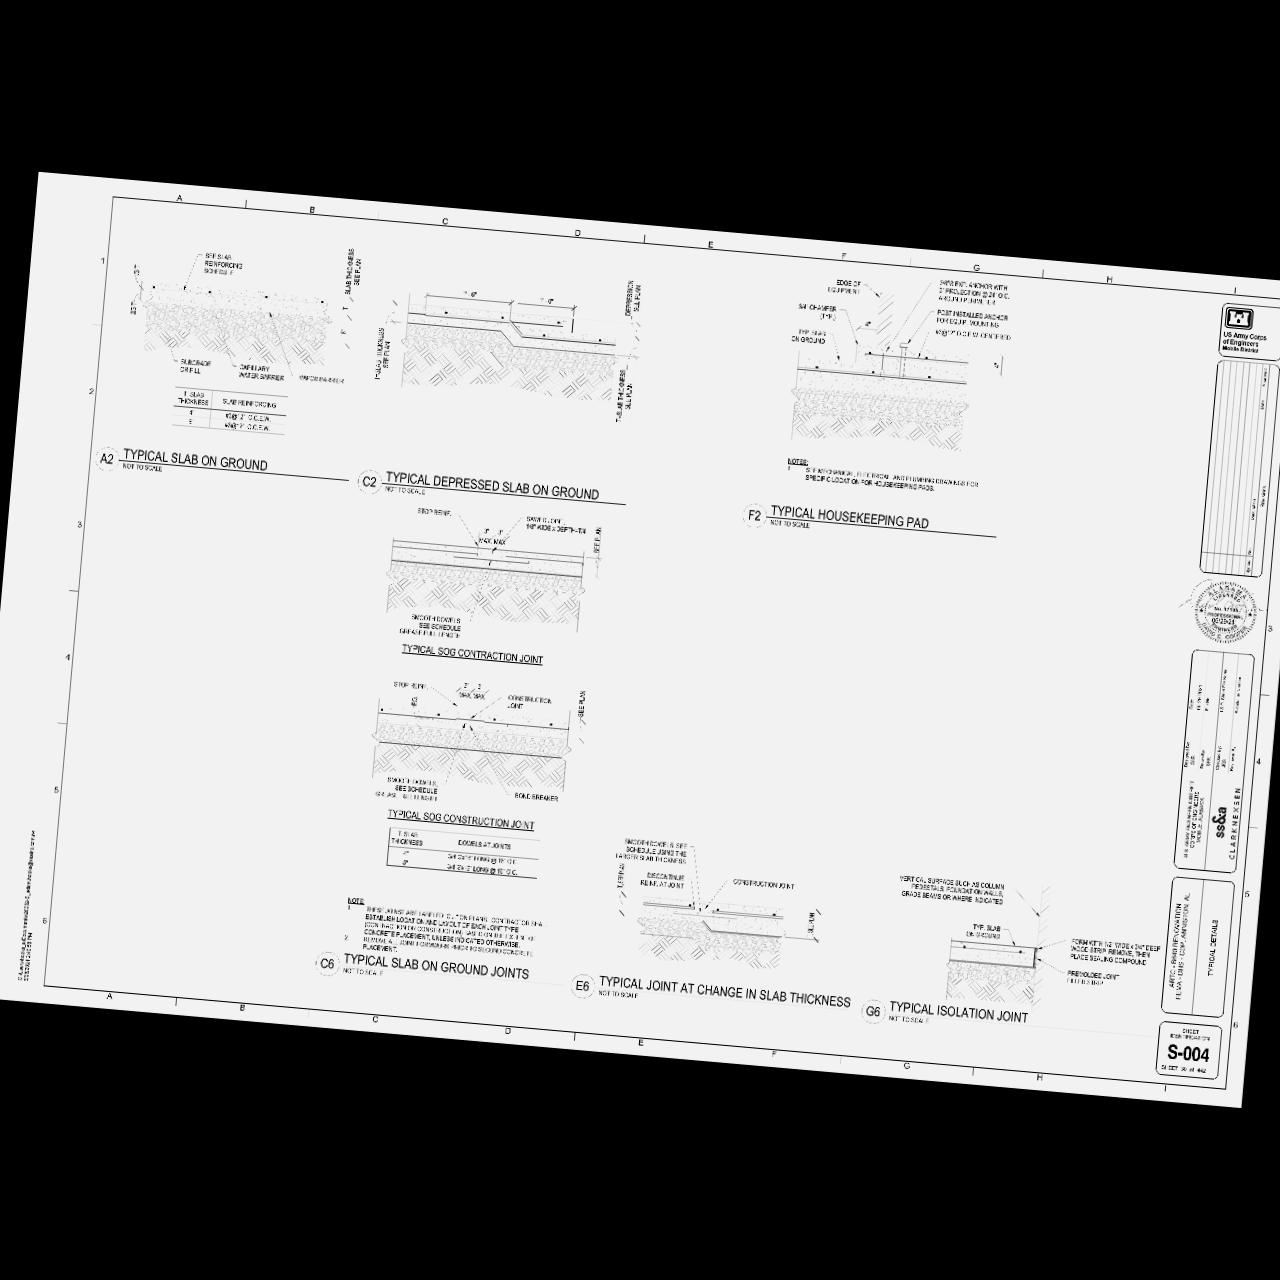title: (858, 994, 1160, 1055), (354, 462, 633, 519), (566, 969, 856, 1024), (738, 497, 1002, 553), (91, 441, 353, 496), (311, 948, 567, 1000)
